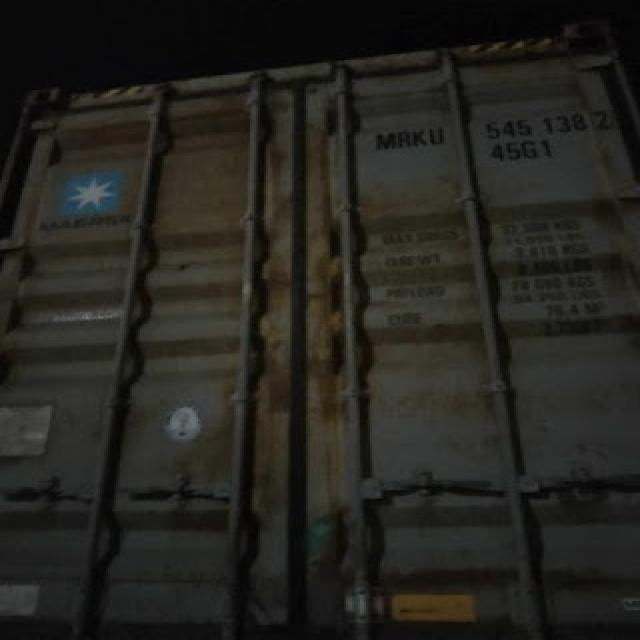ISO: (492, 139, 554, 162)
container_number: (373, 112, 609, 154)
